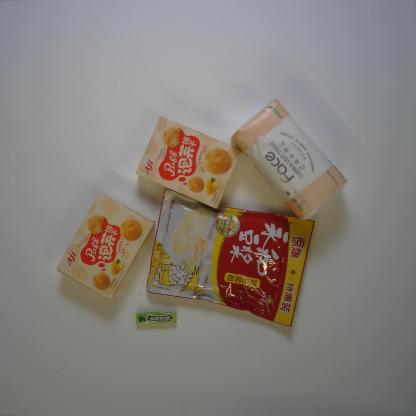Dessert: (53, 189, 158, 303), (134, 112, 242, 211)
Gum: (135, 309, 178, 326)
Instant Drink: (145, 188, 318, 329)
Tissue: (231, 96, 349, 223)
